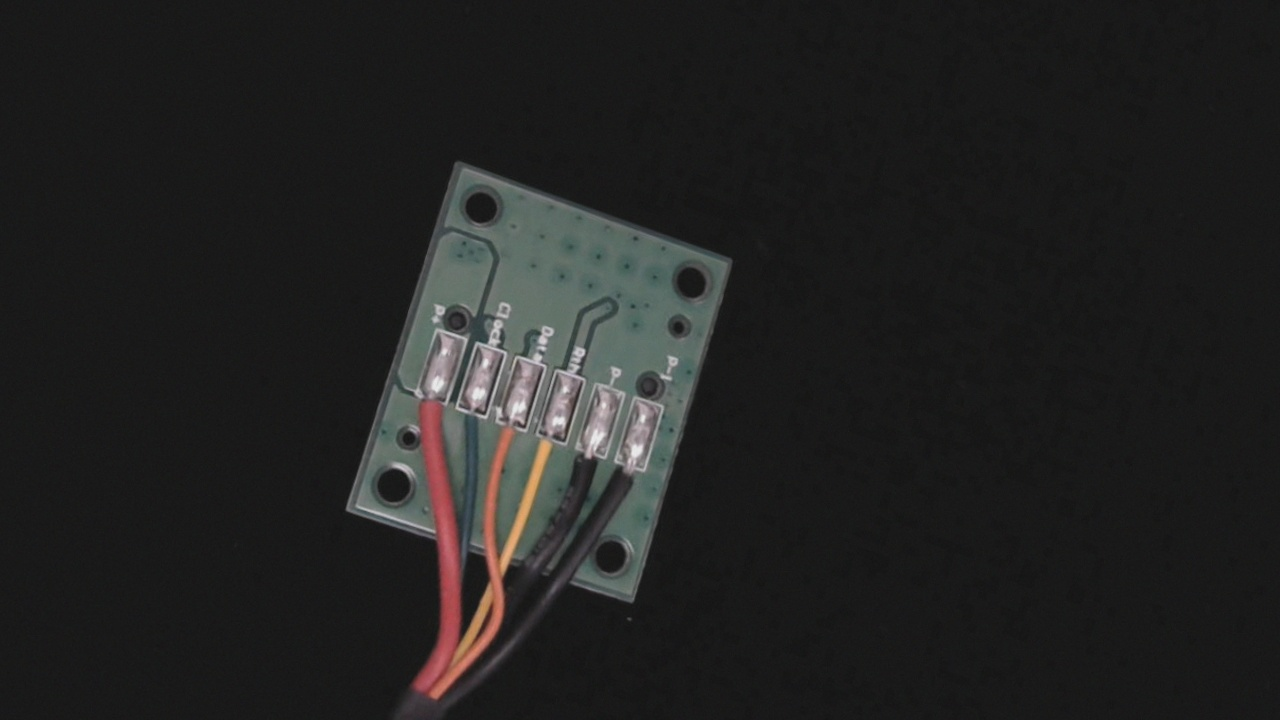Black: (554, 430, 616, 520)
Black1: (597, 444, 655, 527)
Green: (442, 389, 498, 468)
Orange: (473, 404, 533, 492)
Red: (393, 377, 453, 463)
Yellow: (513, 415, 574, 506)
